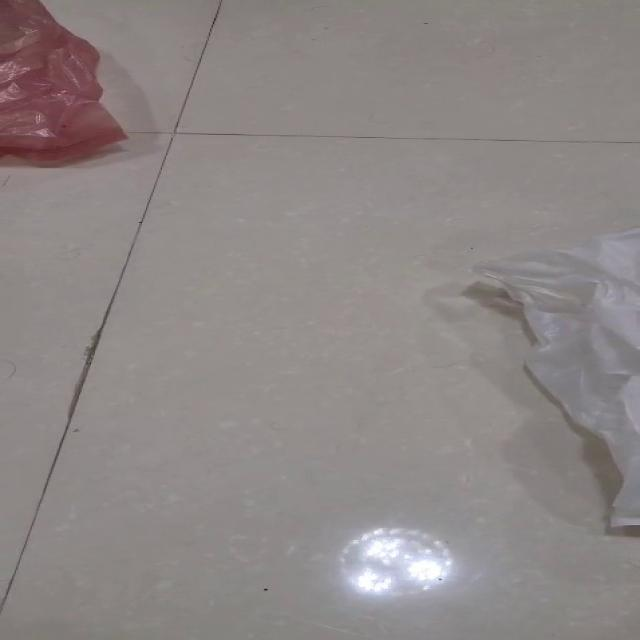plastic: (468, 225, 638, 530), (0, 0, 129, 165)
